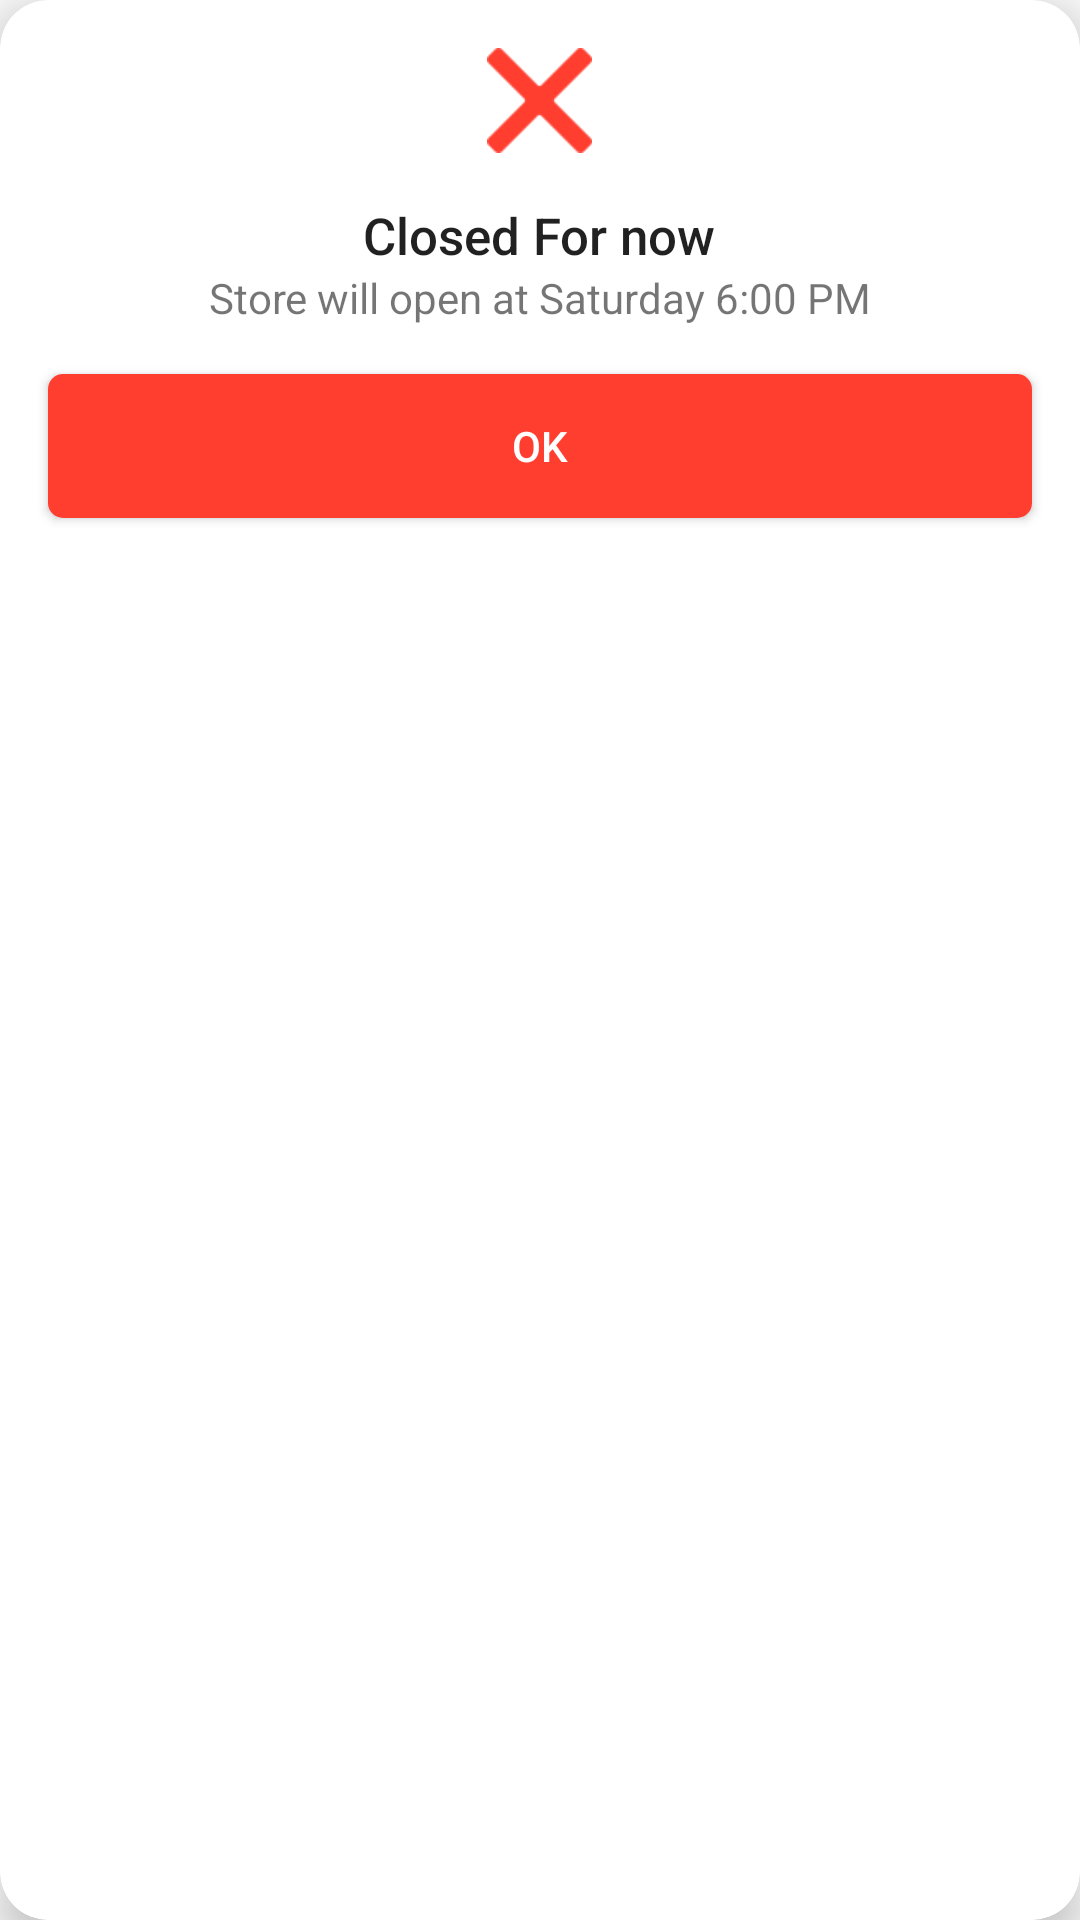

Point at icon controls on the screen. Image size 1080×1920, points as (x,y).
clear: (539,100)
